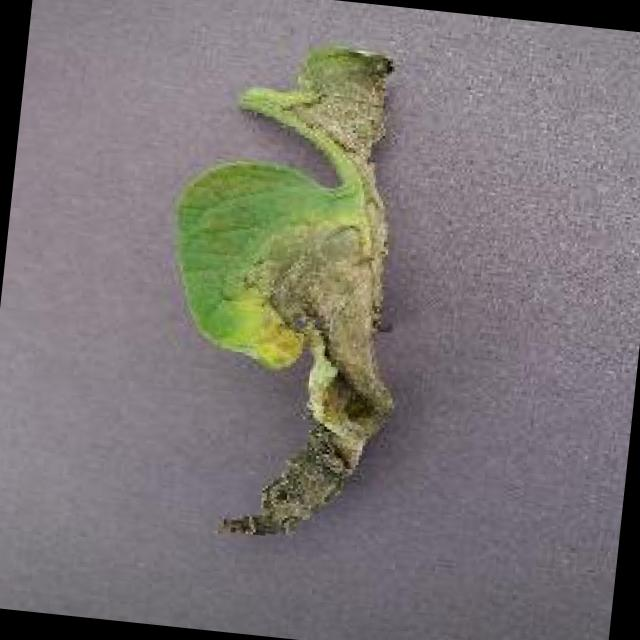Tomato_Late_Blight: (210, 48, 453, 557)
